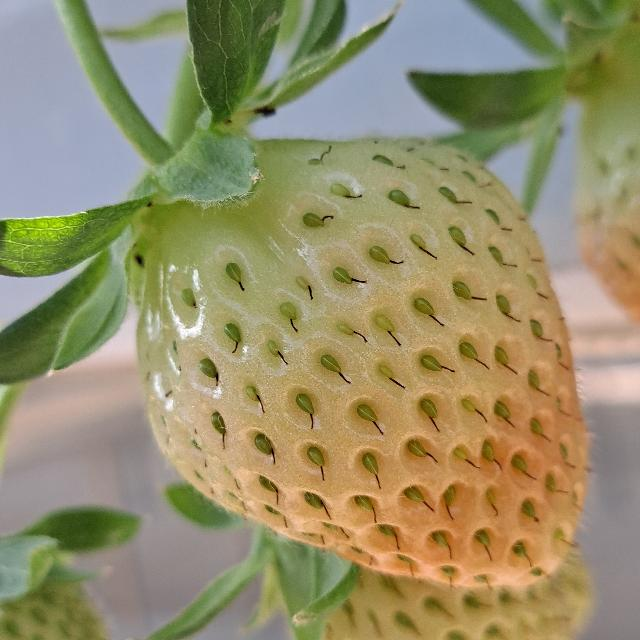Health_50: (136, 135, 588, 587)
